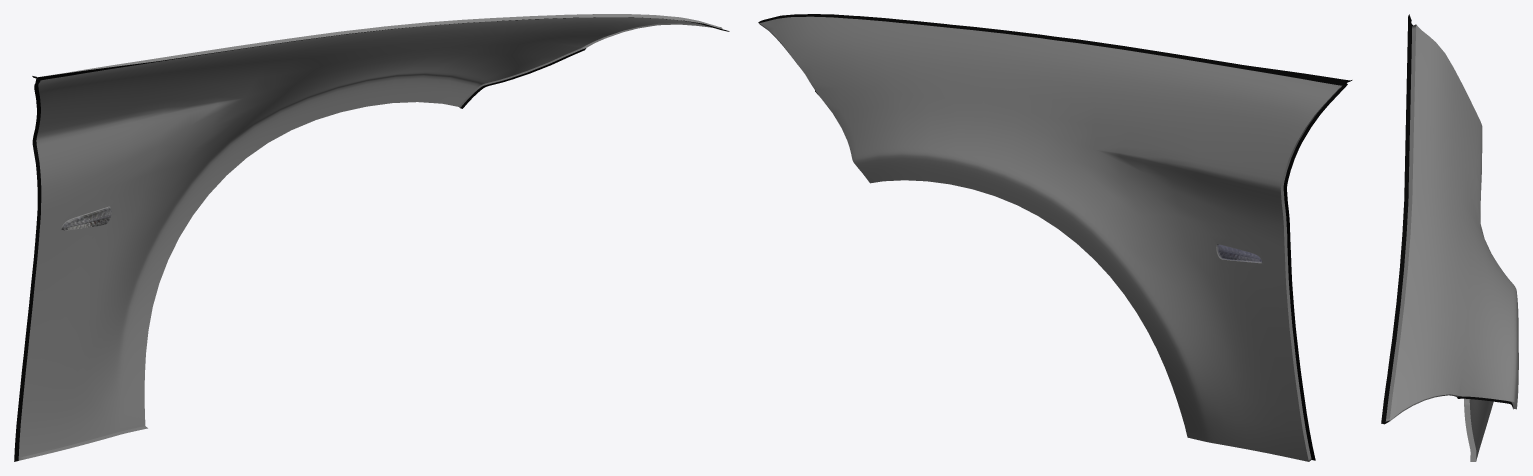
3 renders of one model, left to right at view 1: azimuth 30°, elevation 25°; view 2: azimuth 150°, elevation 25°; view 3: azimuth 270°, elevation 25°, orthographic. The views are drawn at different scales.
Parts seen in each view (by area): view 1: X4131_121B_L_X4131_121B_L_1_DaS, X4131_121B_L_X4131_121B_L_1_DaS_E, X4131_121B_L_4_D_X4131_121B_L; view 2: X4131_121B_L_X4131_121B_L_1_DaS, X4131_121B_L_4_D_X4131_121B_L, X4131_121B_L_X4131_121B_L_1_DaS_E; view 3: X4131_121B_L_X4131_121B_L_1_DaS, X4131_121B_L_X4131_121B_L_1_DaS_E, X4131_121B_L_4_D_X4131_121B_L.
Part boxes in pixels (box(x1,y1,x2,y2)): X4131_121B_L_X4131_121B_L_1_DaS: box(18, 14, 702, 457); X4131_121B_L_X4131_121B_L_1_DaS_E: box(18, 14, 722, 460); X4131_121B_L_4_D_X4131_121B_L: box(14, 17, 729, 461); X4131_121B_L_X4131_121B_L_1_DaS: box(759, 16, 1340, 461); X4131_121B_L_4_D_X4131_121B_L: box(758, 14, 1352, 460); X4131_121B_L_X4131_121B_L_1_DaS_E: box(759, 21, 1341, 461); X4131_121B_L_X4131_121B_L_1_DaS: box(1390, 25, 1518, 461); X4131_121B_L_X4131_121B_L_1_DaS_E: box(1385, 24, 1516, 461); X4131_121B_L_4_D_X4131_121B_L: box(1381, 14, 1513, 424).
Bounding box in the file's own units: 134 × 77.68 × 25.49.
